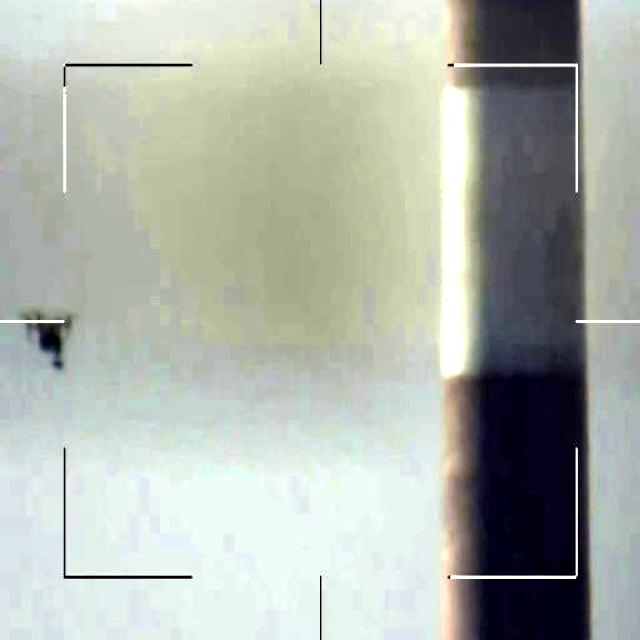bird: (25, 309, 90, 380)
